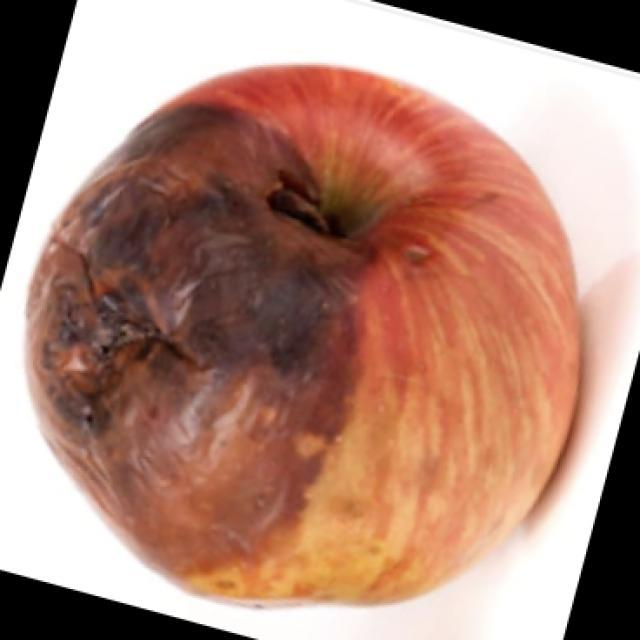Rotten: (65, 66, 571, 640)
